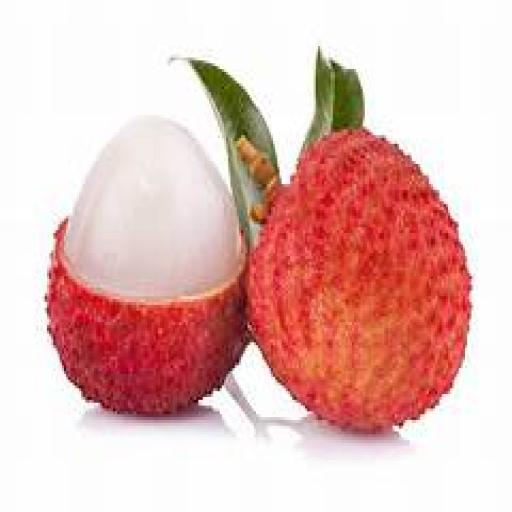lychee: (247, 130, 470, 431), (46, 118, 246, 414)
